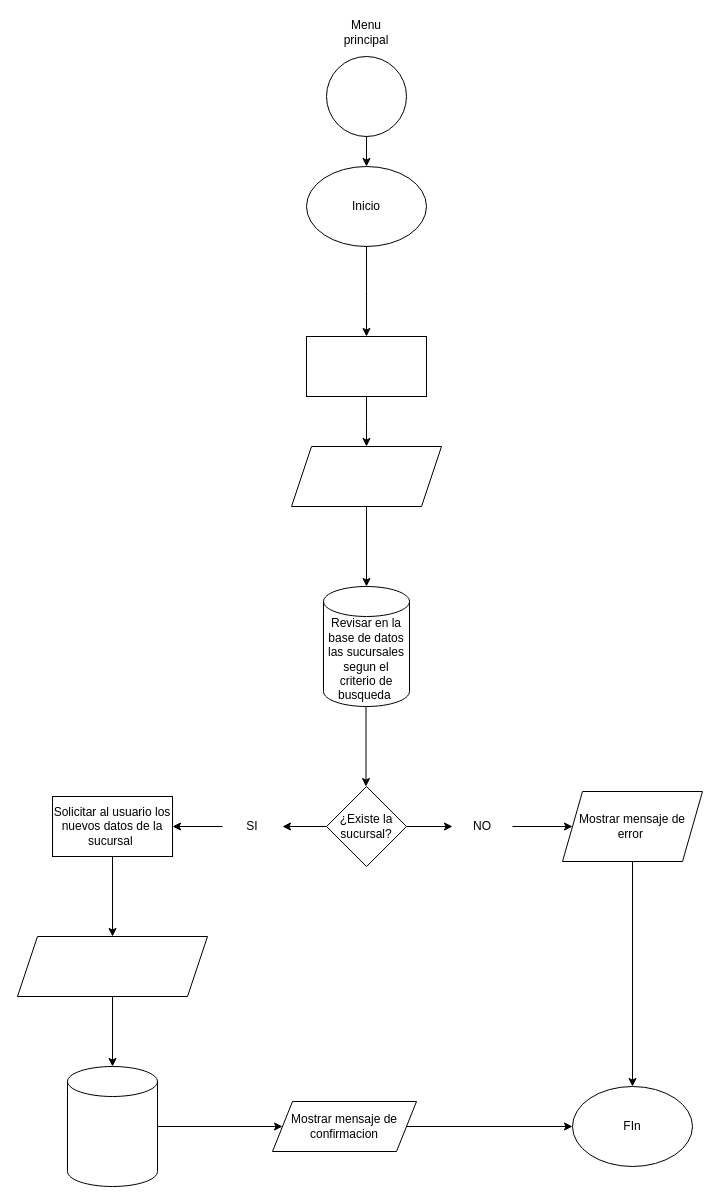
The diagram is 720 pixels wide and 1204 high, and some of its shapes have lost their labels. The shapes that lost their labels are listed below. From the top down, each one's box as (x1, y1, x2, y2) in pixels, then its label:
(306, 336, 426, 396): Solicitar al usuario el ingreso del nombre de la sucursal a actualizar
(290, 446, 442, 506): Ingresar nombre de la sucursal a actualizar
(16, 936, 208, 996): Ingresar los nuevos datos de la sucursal
(66, 1066, 158, 1186): Actualizar la base de datos con la nueva informacion
